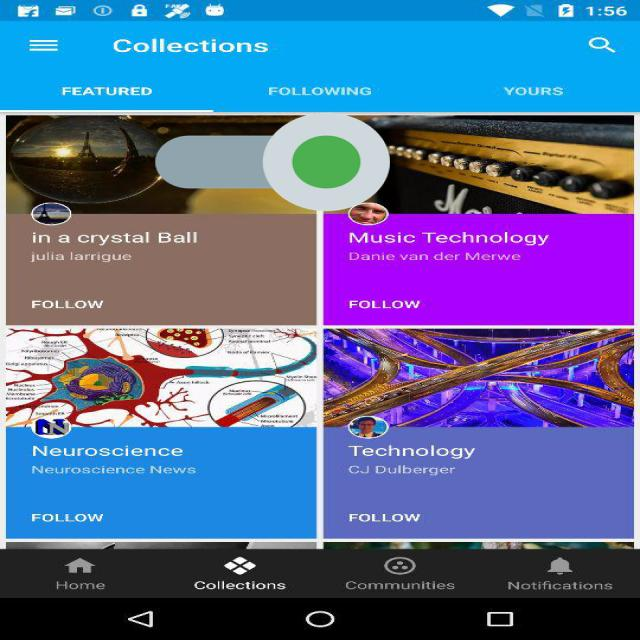social proof: (155, 71, 390, 253)
